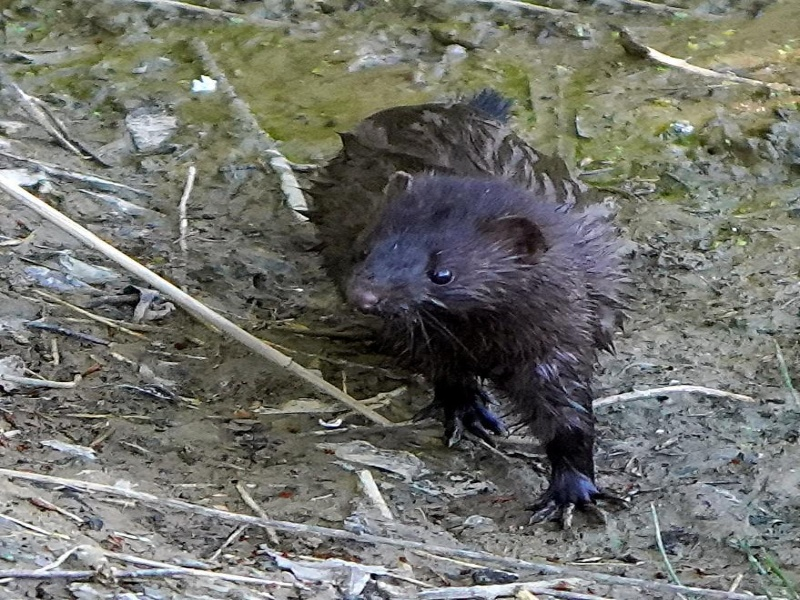minkish: (291, 87, 638, 531)
